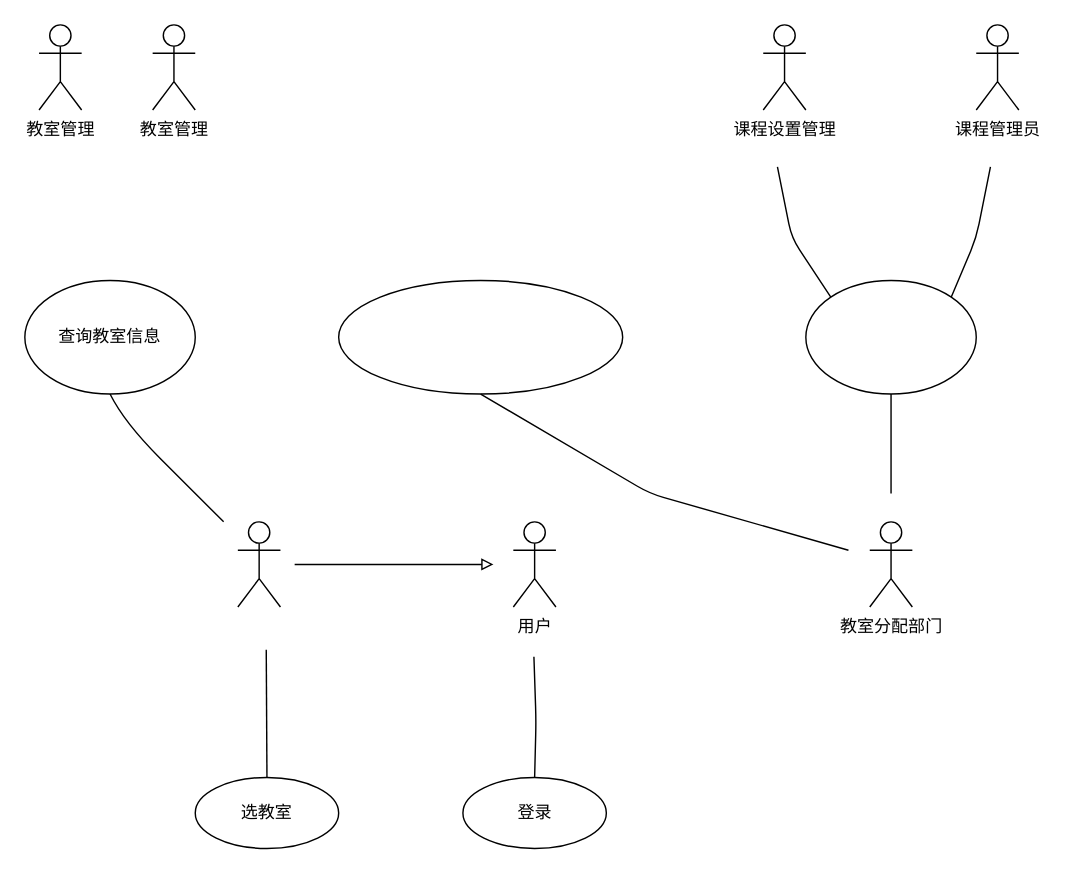
This 1065x873 diagram has some shape labels left out. The box of each missing label's shape, as (x1, y1, x2, y2) in pixels:
教师: (236, 520, 280, 607)
生成及公布教室汇总表: (337, 279, 623, 394)
生成教室表: (804, 279, 976, 394)
